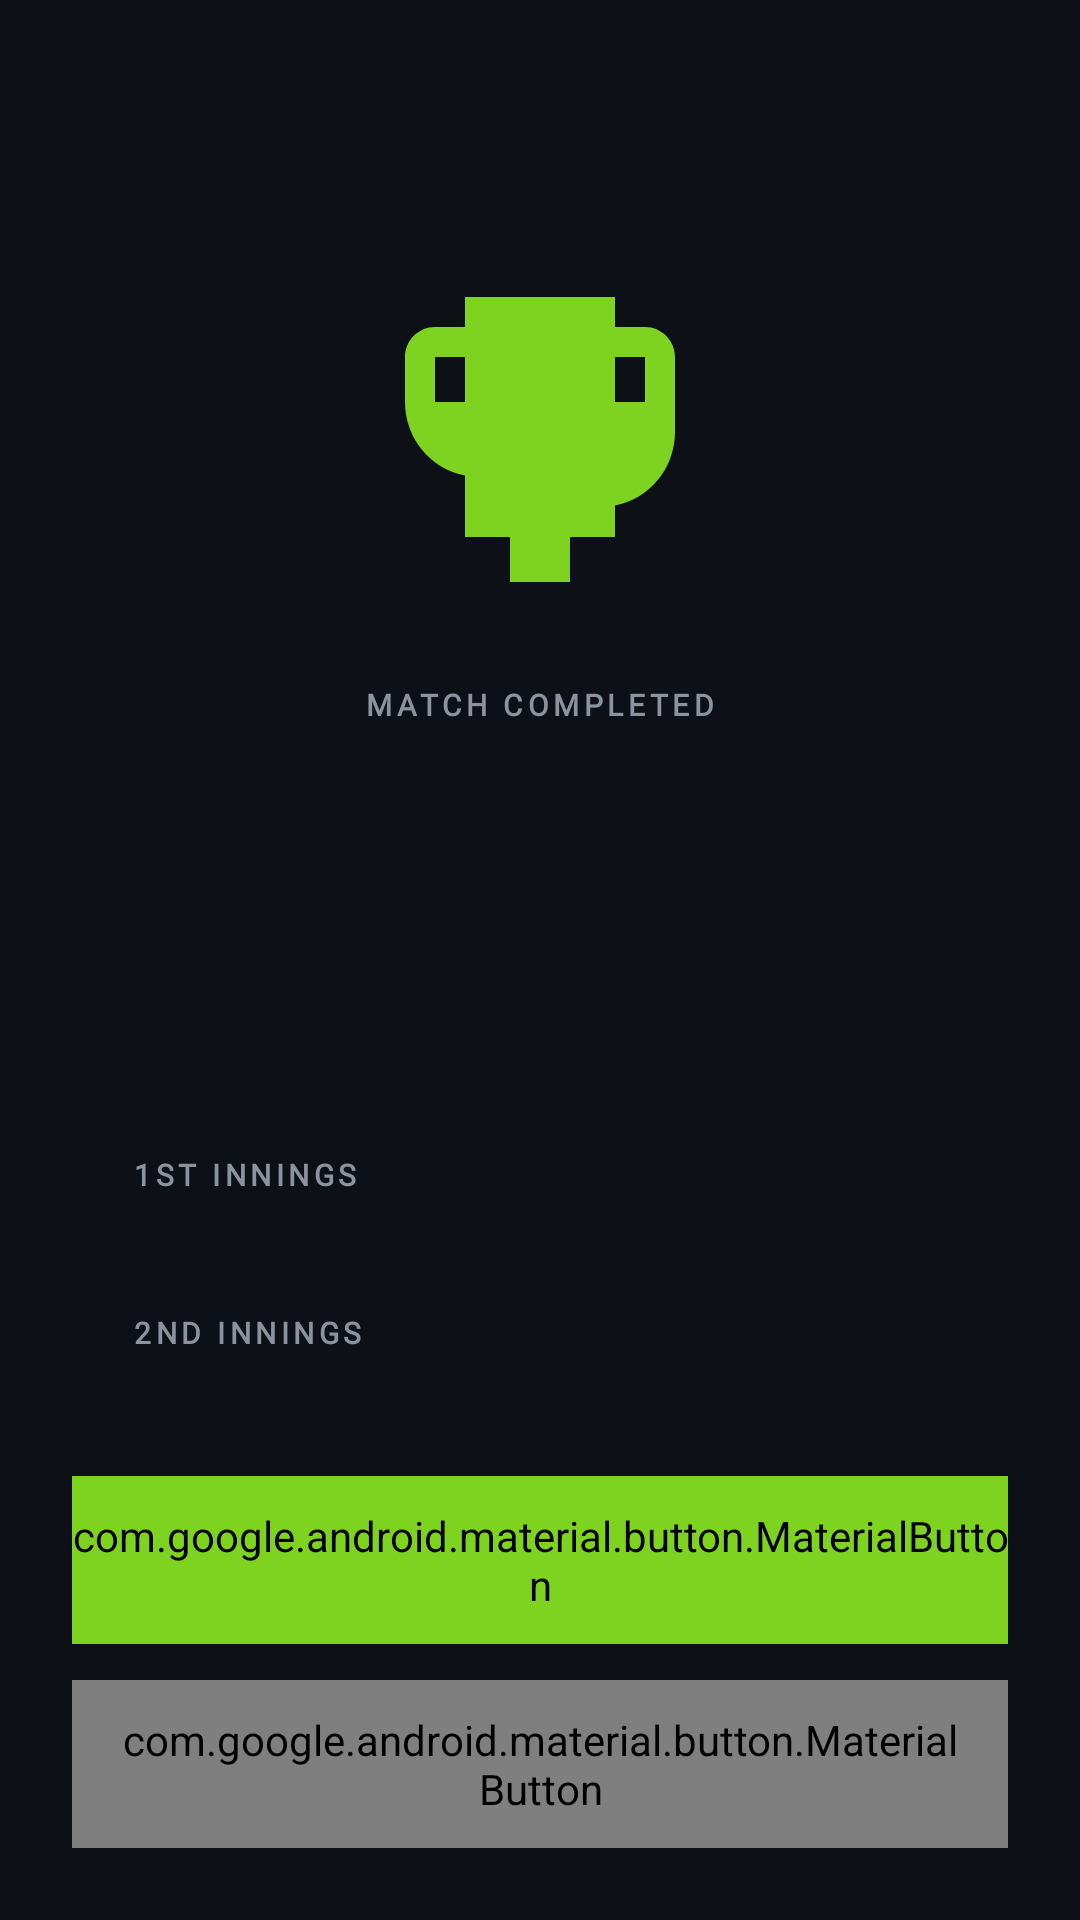

Icons on this 1080 x 1920 Android screen, each with the point to tap as [x,y]:
Trophy: [540,439]
